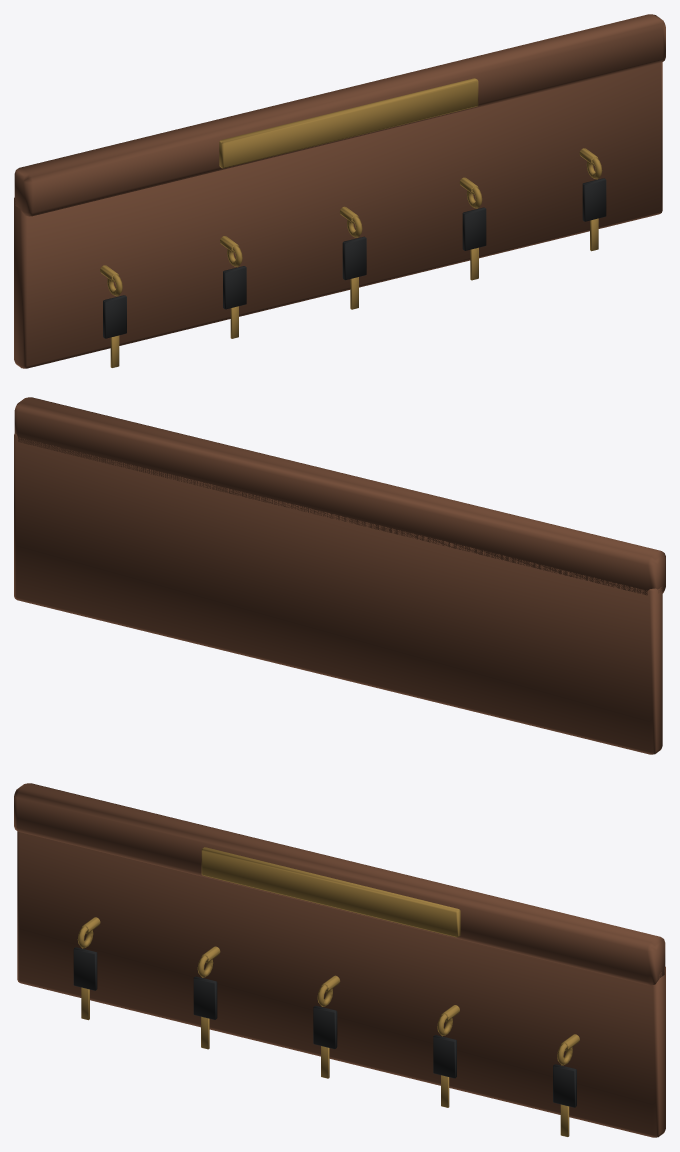
The model's file is asset_088_key_rack.glb.
3 views of the same model, one above another, from view 1: azimuth 30°, elevation 25°; view 2: azimuth 150°, elevation 25°; view 3: azimuth 330°, elevation 25° (orthographic).
Parts seen in each view (by area): view 1: MESH_KeyRackPanel, MESH_KeyRackCrown, MESH_KeyRackPlate, MESH_KeyRackKeys, MESH_KeyRackHooks; view 2: MESH_KeyRackPanel, MESH_KeyRackCrown; view 3: MESH_KeyRackPanel, MESH_KeyRackCrown, MESH_KeyRackPlate, MESH_KeyRackKeys, MESH_KeyRackHooks.
Boxes of the visible parts, x1,y1,x2,y2 form: MESH_KeyRackPanel: (14, 62, 662, 368); MESH_KeyRackCrown: (14, 14, 665, 216); MESH_KeyRackPlate: (219, 78, 478, 168); MESH_KeyRackKeys: (103, 178, 606, 367); MESH_KeyRackHooks: (100, 148, 602, 296); MESH_KeyRackPanel: (14, 433, 662, 754); MESH_KeyRackCrown: (14, 397, 665, 595); MESH_KeyRackPanel: (17, 831, 665, 1137); MESH_KeyRackCrown: (14, 783, 665, 985); MESH_KeyRackPlate: (201, 847, 460, 937); MESH_KeyRackKeys: (73, 947, 576, 1136); MESH_KeyRackHooks: (77, 917, 579, 1065).
Bounding box in the file's own units: 0.75 × 0.228 × 0.0565.
